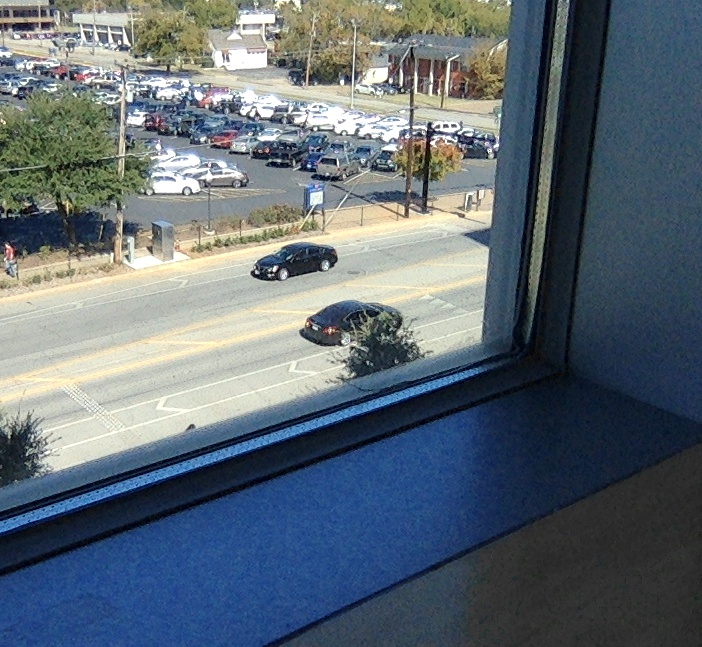car: (300, 300, 402, 347)
